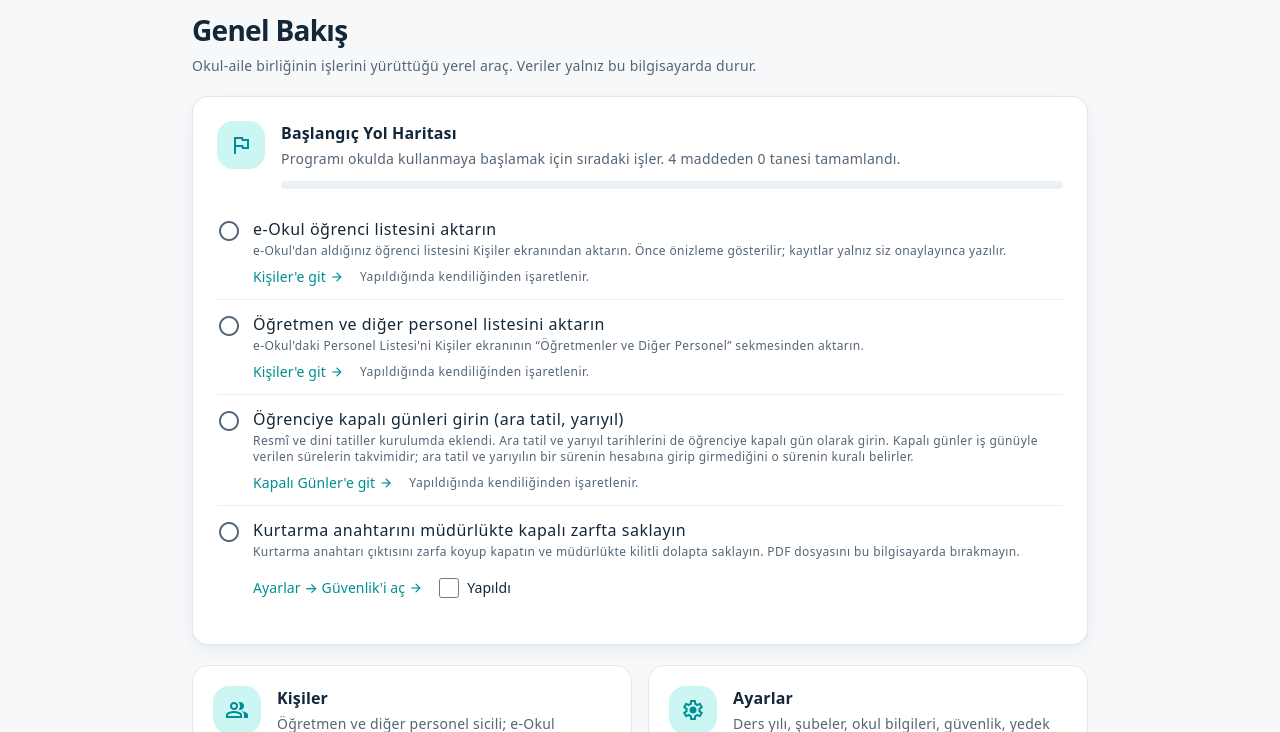
Test: Başlangıç Yol Haritası › elle işaretlenen madde backend'e yazılır ve tarihiyle görünür
The width and height of the screenshot is (1280, 732).
Step 1. Click the checkbox named "Kurtarma anahtarını müdürlükte kapalı zarfta saklayın — yapıldı" → click(449, 588), box [439,578,459,598]
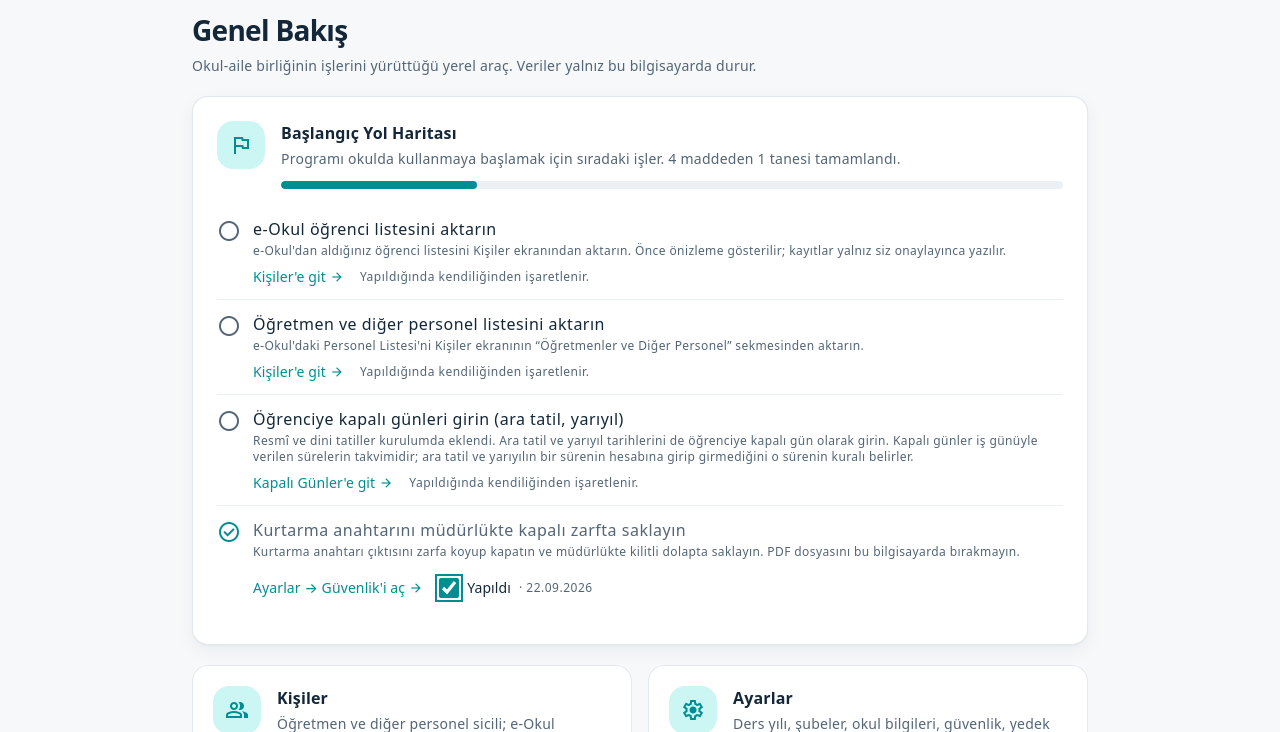
expect the checkbox named "Kurtarma anahtarını müdürlükte kapalı zarfta saklayın — yapıldı" is checked: met, box [439,578,459,598]
expect the text "· 22.09.2026" is shown: met, box [519,580,593,596]
